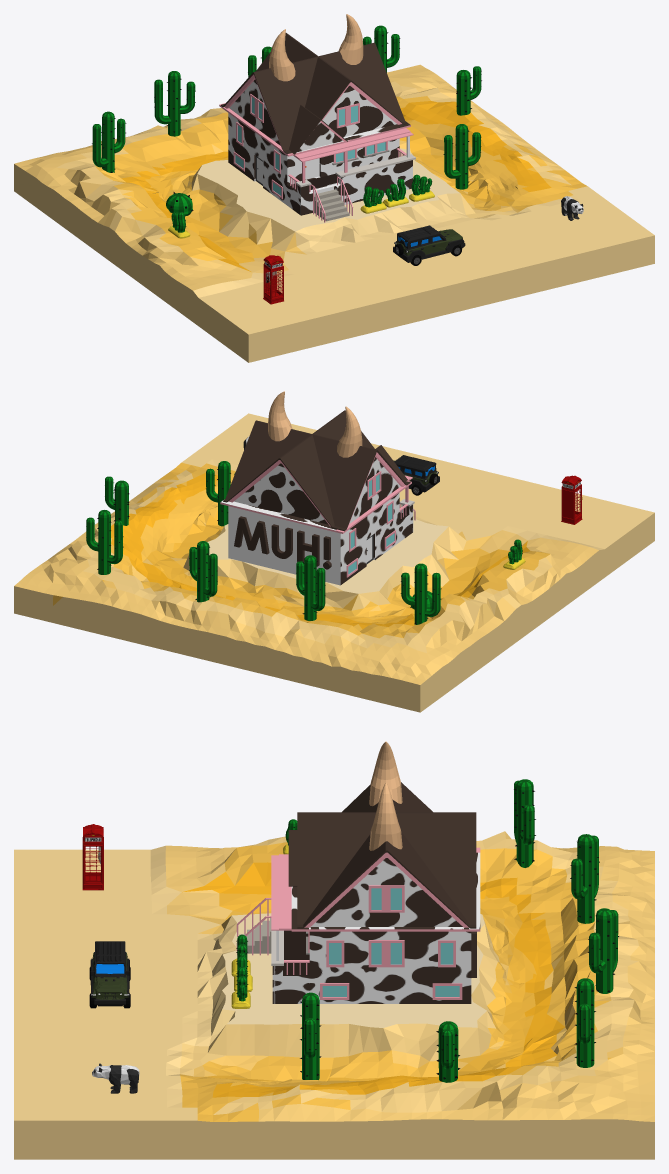
3 views of the same model, one above another, from view 1: azimuth 30°, elevation 25°; view 2: azimuth 150°, elevation 25°; view 3: azimuth 270°, elevation 25° (orthographic). The views are drawn at different scales.
Parts seen in each view (by area): view 1: Cube.001, Cube.1242, VEHICLES_JEEP, Cylinder.037, Cylinder.044, Cylinder.045, OBJRANDOM_PHONEBOOTH, Cylinder.038, Cylinder.042, Cylinder.041, Cylinder.039; view 2: Cube.001, Cube.1242, Cylinder.045, Cylinder.042, Cylinder.044, Cylinder.043, VEHICLES_JEEP, Cylinder.037, OBJRANDOM_PHONEBOOTH, Cylinder.038; view 3: Cube.001, Cube.1242, VEHICLES_JEEP, Cylinder.044, Cylinder.043, Cylinder.045, Cylinder.042, Cylinder.037, OBJRANDOM_PHONEBOOTH, Cylinder.038, ANIMAL_PANDA, Cylinder.041.
Boxes of the visible parts, x1,y1,x2,y2 form: Cube.001: [14, 64, 654, 362]; Cube.1242: [219, 14, 415, 222]; VEHICLES_JEEP: [393, 225, 465, 265]; Cylinder.037: [443, 124, 481, 189]; Cylinder.044: [154, 71, 195, 136]; Cylinder.045: [92, 111, 126, 172]; OBJRANDOM_PHONEBOOTH: [263, 255, 283, 304]; Cylinder.038: [456, 66, 481, 115]; Cylinder.042: [363, 25, 400, 72]; Cylinder.041: [409, 174, 434, 201]; Cylinder.039: [360, 186, 386, 213]; Cube.001: [14, 413, 654, 712]; Cube.1242: [220, 391, 415, 585]; Cylinder.045: [400, 563, 441, 624]; Cylinder.042: [86, 510, 123, 574]; Cylinder.044: [296, 555, 325, 620]; Cylinder.043: [189, 541, 217, 602]; VEHICLES_JEEP: [393, 455, 439, 495]; Cylinder.037: [206, 461, 235, 526]; OBJRANDOM_PHONEBOOTH: [561, 475, 582, 524]; Cylinder.038: [105, 476, 129, 525]; Cube.001: [14, 831, 654, 1159]; Cube.1242: [236, 741, 480, 1003]; VEHICLES_JEEP: [89, 941, 130, 1008]; Cylinder.044: [570, 834, 599, 923]; Cylinder.043: [588, 908, 618, 993]; Cylinder.045: [514, 779, 535, 867]; Cylinder.042: [574, 978, 595, 1067]; Cylinder.037: [300, 992, 321, 1079]; OBJRANDOM_PHONEBOOTH: [82, 824, 103, 890]; Cylinder.038: [436, 1021, 460, 1082]; ANIMAL_PANDA: [92, 1063, 139, 1093]; Cylinder.041: [231, 966, 250, 1008].
Size of the model in its own units: 4002 by 1889 by 4001.
Materials: 38 (2 with a texture image).
